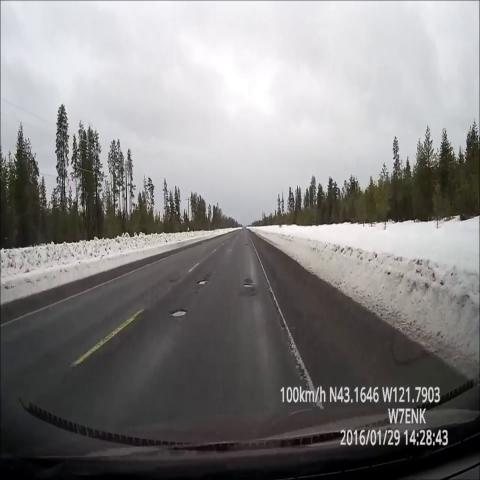pothole: (164, 296, 193, 329), (188, 267, 214, 297), (235, 265, 254, 306), (160, 274, 183, 294)
